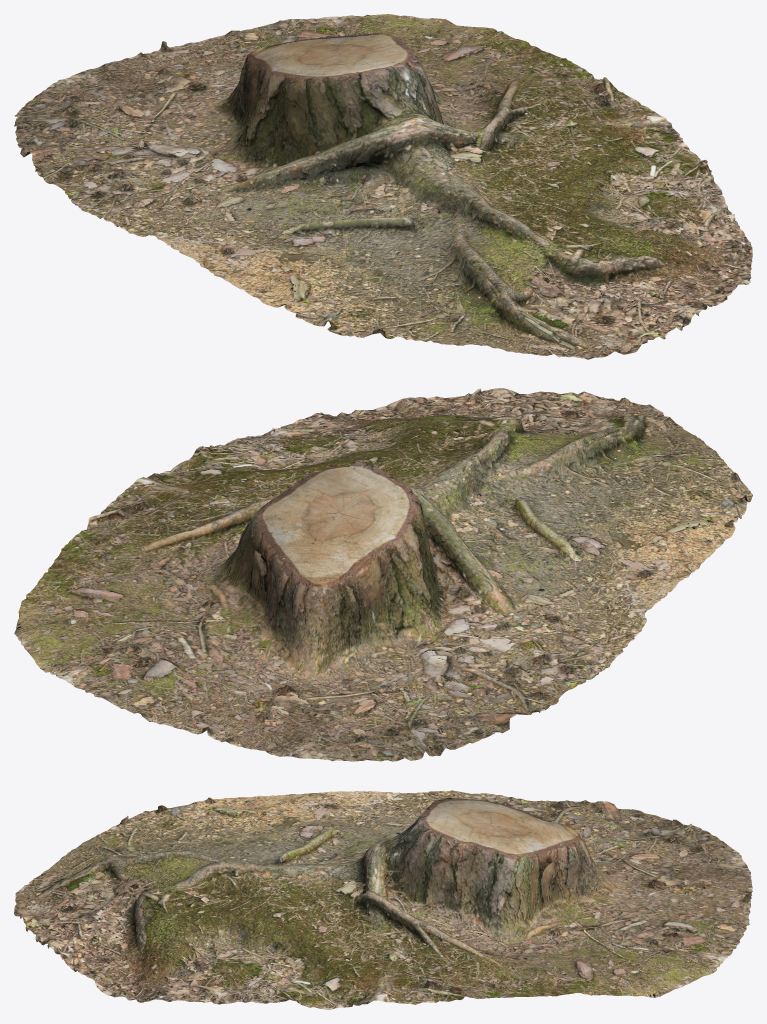
Rendered from 3DTreeStump001_LQ-1K-PNG.obj.
3 renders of one model, top to bottom at view 1: azimuth 30°, elevation 25°; view 2: azimuth 150°, elevation 25°; view 3: azimuth 270°, elevation 25°, orthographic. The views are drawn at different scales.
Parts seen in each view (by area): view 1: 3DTreeStump001_LQ-1K-PNG; view 2: 3DTreeStump001_LQ-1K-PNG; view 3: 3DTreeStump001_LQ-1K-PNG.
Part boxes in pixels (left/top/right/bottom): 3DTreeStump001_LQ-1K-PNG: left=14, top=14, right=752, bottom=359; 3DTreeStump001_LQ-1K-PNG: left=14, top=388, right=752, bottom=761; 3DTreeStump001_LQ-1K-PNG: left=14, top=790, right=752, bottom=1009.
Size of the model in its own units: 0.9732 by 0.2178 by 1.4.
1 material, 1 textured.
